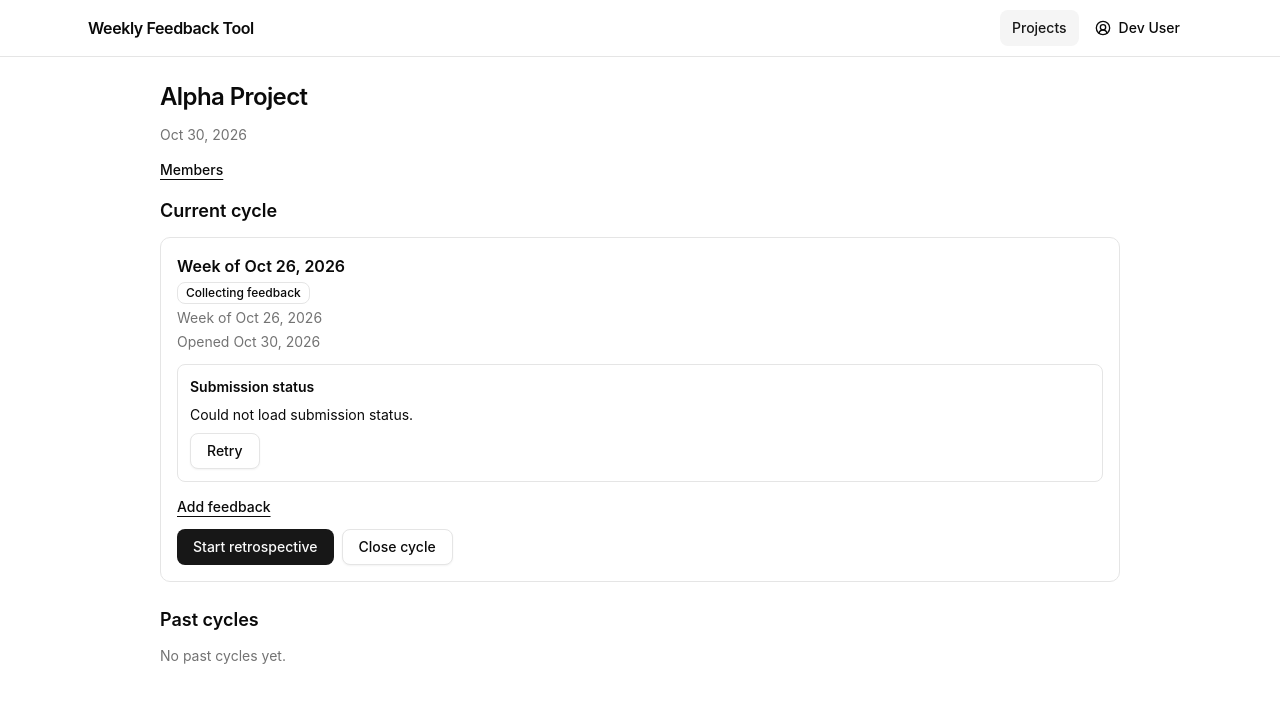
Test: SubmissionStatus loading and errors › shows an alert with Retry while the rest of the page still works
Expected: the message shows "Could not load submission status.", [190,406,413,423]
Expected: the heading "Week of Oct 26, 2026" is shown, [177,256,345,276]
Click the button "Close cycle": click(397, 547) [342,529,453,565]
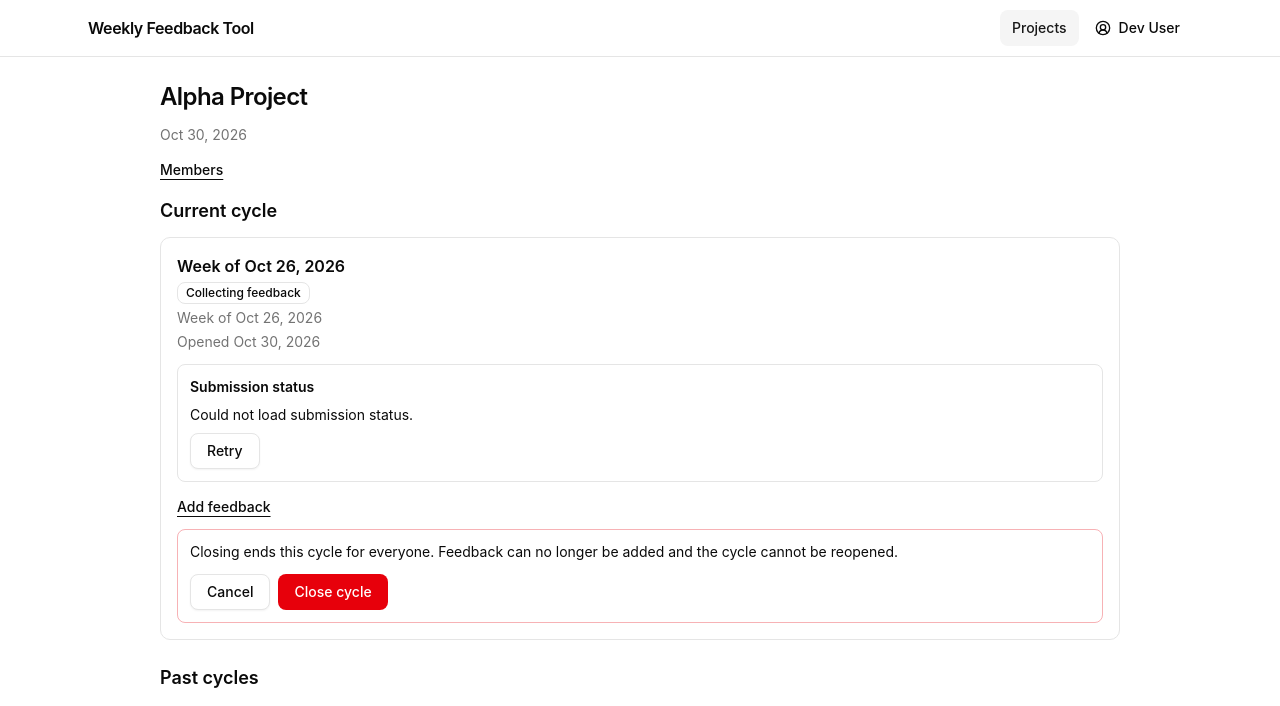
Now the button "Cancel" is shown
Click the button "Cancel": click(230, 592) [190,574,270,610]
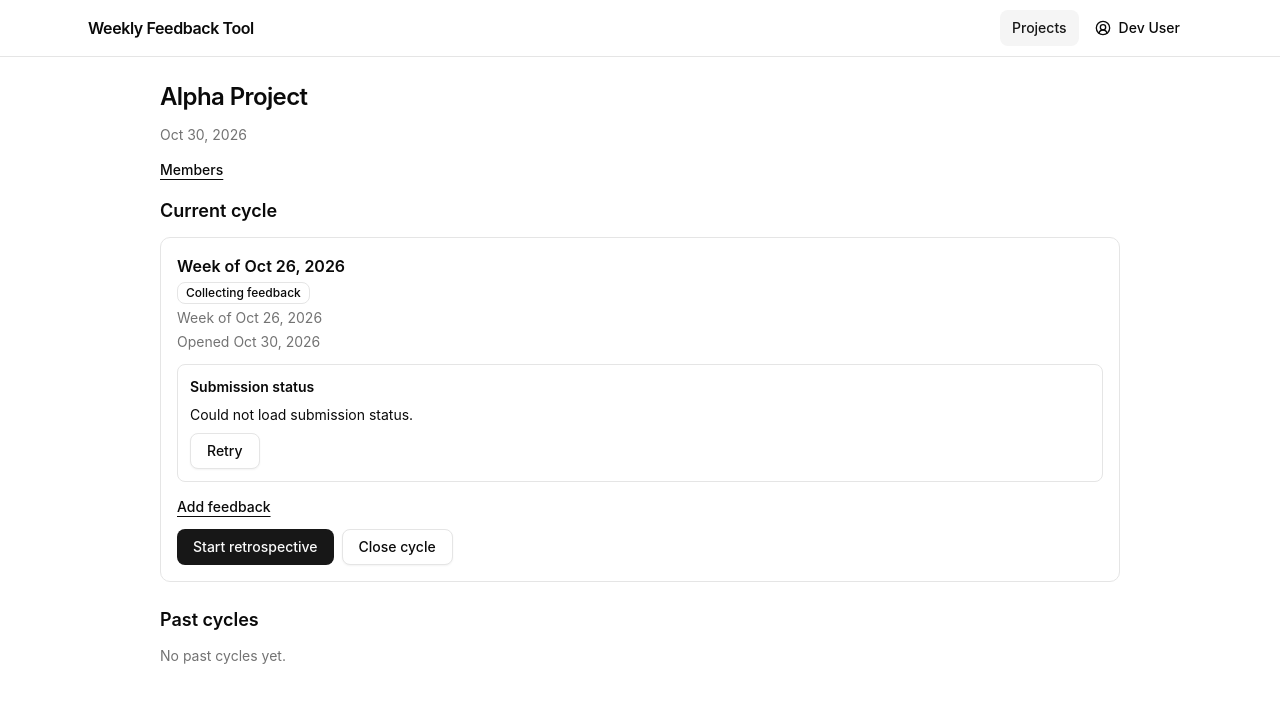
Click the button "Retry": click(225, 451) [190,433,260,469]
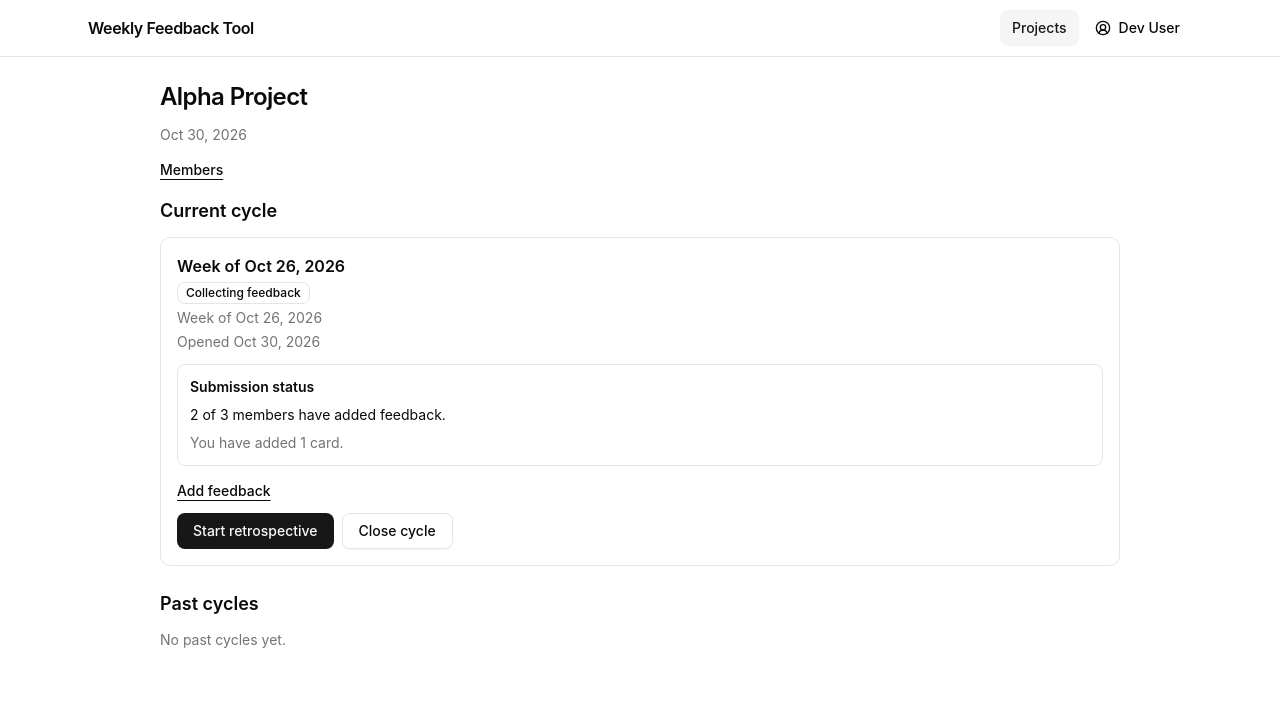
Now the text "2 of 3 members have added feedback." is shown, box [190,406,446,423]
Now the message "Could not load submission status. Retry" is gone
